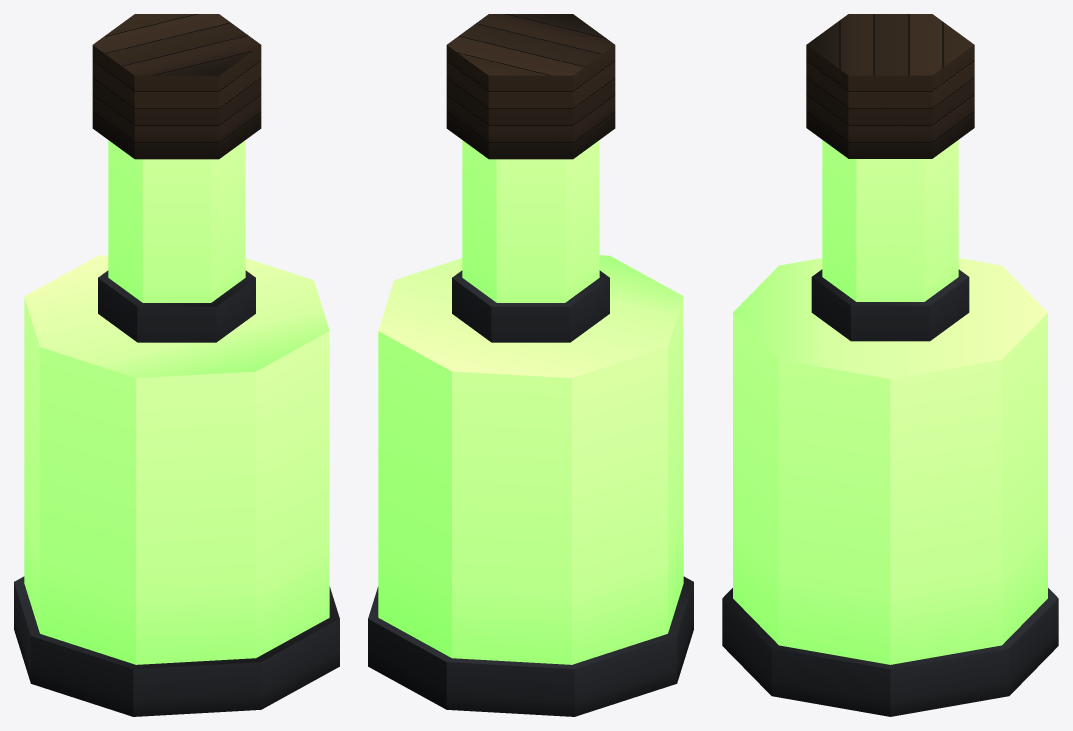
The model's file is potion_green.gltf.
The picture shows the model from 3 angles, left to right: view 1: azimuth 30°, elevation 25°; view 2: azimuth 150°, elevation 25°; view 3: azimuth 270°, elevation 25°; orthographic projection.
Parts seen in each view (by area): view 1: potion_green; view 2: potion_green; view 3: potion_green.
Boxes of the visible parts, x1,y1,x2,y2 form: potion_green: (14, 14, 339, 716); potion_green: (368, 14, 693, 716); potion_green: (722, 14, 1058, 716).
Bounding box in the file's own units: 0.128 × 0.2525 × 0.128.
1 material, 1 textured.
